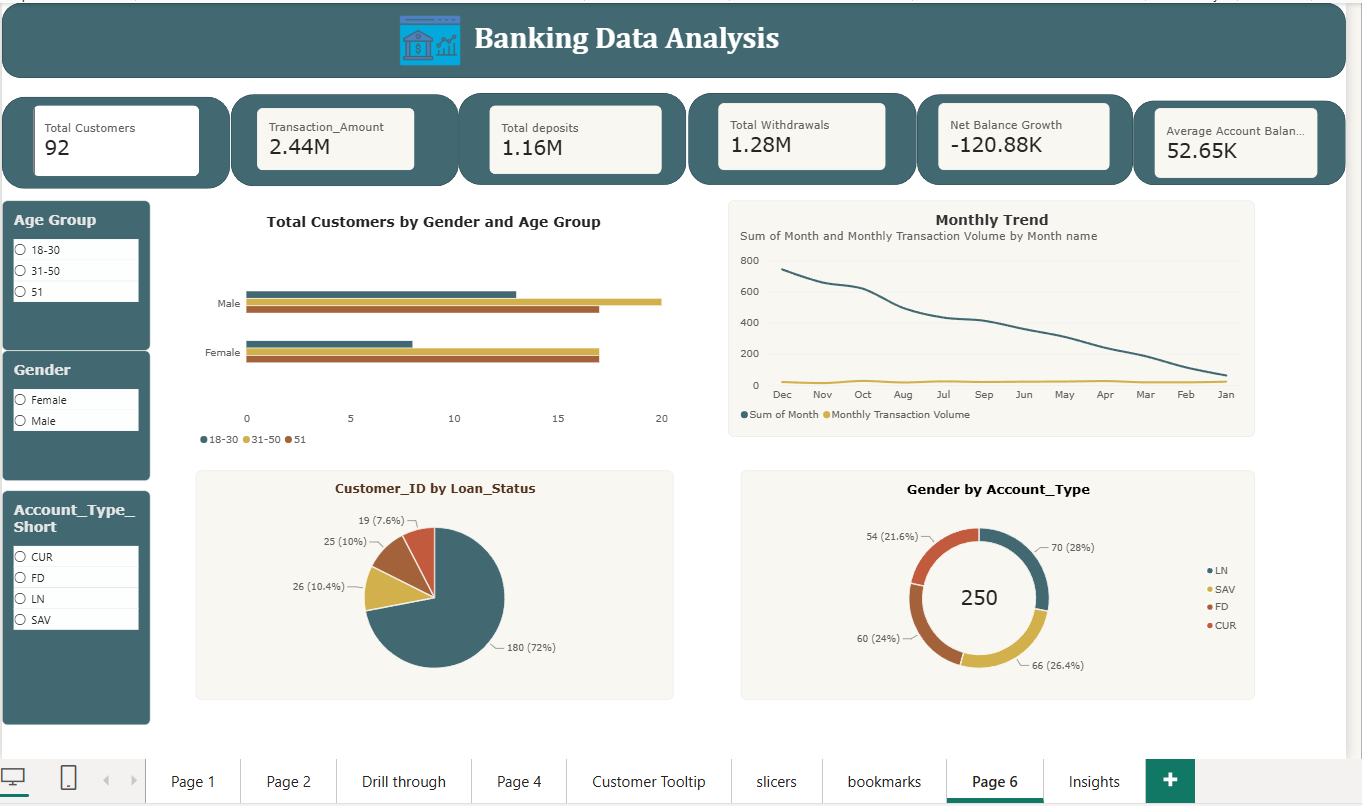

This screenshot's page, from the dashboard's own definition file:
{"tool":"powerbi","page":{"name":"Page 6","canvas":[1920,1080],"ordinal":7},"visuals":[{"type":"shape","box":[0,0,1919.7,107.1],"z":0},{"type":"textbox","box":[363.8,22.4,1134.5,69],"z":1000},{"type":"shape","box":[0,133.3,325.9,131.5],"z":2000},{"type":"shape","box":[326.8,130.4,325.9,131.5],"z":3000},{"type":"shape","box":[652.6,128.1,325.9,131.5],"z":4000},{"type":"shape","box":[980.7,128.1,326.3,131.6],"z":5000},{"type":"shape","box":[1307,129.8,308.8,129.8],"z":6000},{"type":"cardVisual","title":"Customers","fields":{"Data":["Banking_Data.Total Customers"]},"box":[44.6,146.4,237.5,101.8],"z":7000},{"type":"cardVisual","fields":{"Data":["Banking_Data.Total deposits"]},"box":[696.5,145.6,246.4,98.2],"z":8000},{"type":"cardVisual","fields":{"Data":["Banking_Data.Total Withdrawals"]},"box":[1023.2,142.9,239.3,96.4],"z":9000},{"type":"cardVisual","fields":{"Data":["Banking_Data.Net Balance Growth"]},"box":[1336.8,142.1,245.6,96.5],"z":10000},{"type":"cardVisual","fields":{"Data":["Banking_Data.Average Account Balance"]},"box":[1659.6,154.4,219.3,93],"z":11000},{"type":"cardVisual","fields":{"Data":["Sum(Banking_Data.Transaction_Amount)"]},"box":[364.3,150,225,89.3],"z":12000},{"type":"shape","box":[1615.8,138.6,303.5,121.1],"z":13000},{"type":"cardVisual","fields":{"Data":["Banking_Data.Average Account Balance"]},"box":[1645.6,149.1,233.3,100],"z":14000},{"type":"clusteredBarChart","title":"Total Customers by Gender and Age Group","fields":{"Category":["Banking_Data.Gender"],"Series":["Banking_Data.Age Group"],"Y":["Banking_Data.Total Customers"]},"box":[282.1,300,669,337.9],"z":15000},{"type":"listSlicer","fields":{"Values":["Banking_Data.Age Group"]},"box":[0,283,212.3,214.1],"z":16000},{"type":"listSlicer","fields":{"Values":["Banking_Data.Gender"]},"box":[0,497.1,212.3,186.2],"z":17000},{"type":"listSlicer","fields":{"Values":["Banking_Data.Account_Type_Short"]},"box":[0,696.4,212.3,335.1],"z":18000},{"type":"lineChart","title":"Monthly Trend","fields":{"Category":["Calendar.Month name"],"Y":["Sum(Calendar.Month)","Calendar.Monthly Transaction Volume"]},"box":[1037.9,282.8,751.7,337.9],"z":19000},{"type":"pieChart","fields":{"Category":["Banking_Data.Loan_Status"],"Y":["CountNonNull(Banking_Data.Customer_ID)"]},"box":[277.6,667.2,682.8,327.6],"z":20000},{"type":"image","box":[489.7,0,244.8,106.9],"z":20001},{"type":"donutChart","fields":{"Category":["Banking_Data.Account_Type_Short"],"Y":["CountNonNull(Banking_Data.Gender)"]},"box":[1055.2,667.2,734.5,327.6],"z":20002}]}

Visuals, with their boxes on the page's 1920x1080 design canvas (x1, y1, x2, y2). These are canvas units, not pixel positions in the 1362x806 screenshot, which may show the page scaled, cropped or inside an application window:
shape: l=0, t=0, r=1920, b=107
textbox: l=364, t=22, r=1498, b=91
shape: l=0, t=133, r=326, b=265
shape: l=327, t=130, r=653, b=262
shape: l=653, t=128, r=978, b=260
shape: l=981, t=128, r=1307, b=260
shape: l=1307, t=130, r=1616, b=260
"Customers" cardVisual: l=45, t=146, r=282, b=248
cardVisual - Banking_Data.Total deposits: l=696, t=146, r=943, b=244
cardVisual - Banking_Data.Total Withdrawals: l=1023, t=143, r=1262, b=239
cardVisual - Banking_Data.Net Balance Growth: l=1337, t=142, r=1582, b=239
cardVisual - Banking_Data.Average Account Balance: l=1660, t=154, r=1879, b=247
cardVisual - Sum(Banking_Data.Transaction_Amount): l=364, t=150, r=589, b=239
shape: l=1616, t=139, r=1919, b=260
cardVisual - Banking_Data.Average Account Balance: l=1646, t=149, r=1879, b=249
"Total Customers by Gender and Age Group" clusteredBarChart: l=282, t=300, r=951, b=638
listSlicer - Banking_Data.Age Group: l=0, t=283, r=212, b=497
listSlicer - Banking_Data.Gender: l=0, t=497, r=212, b=683
listSlicer - Banking_Data.Account_Type_Short: l=0, t=696, r=212, b=1032
"Monthly Trend" lineChart: l=1038, t=283, r=1790, b=621
pieChart - Banking_Data.Loan_Status x CountNonNull(Banking_Data.Customer_ID): l=278, t=667, r=960, b=995
image: l=490, t=0, r=734, b=107
donutChart - Banking_Data.Account_Type_Short x CountNonNull(Banking_Data.Gender): l=1055, t=667, r=1790, b=995
